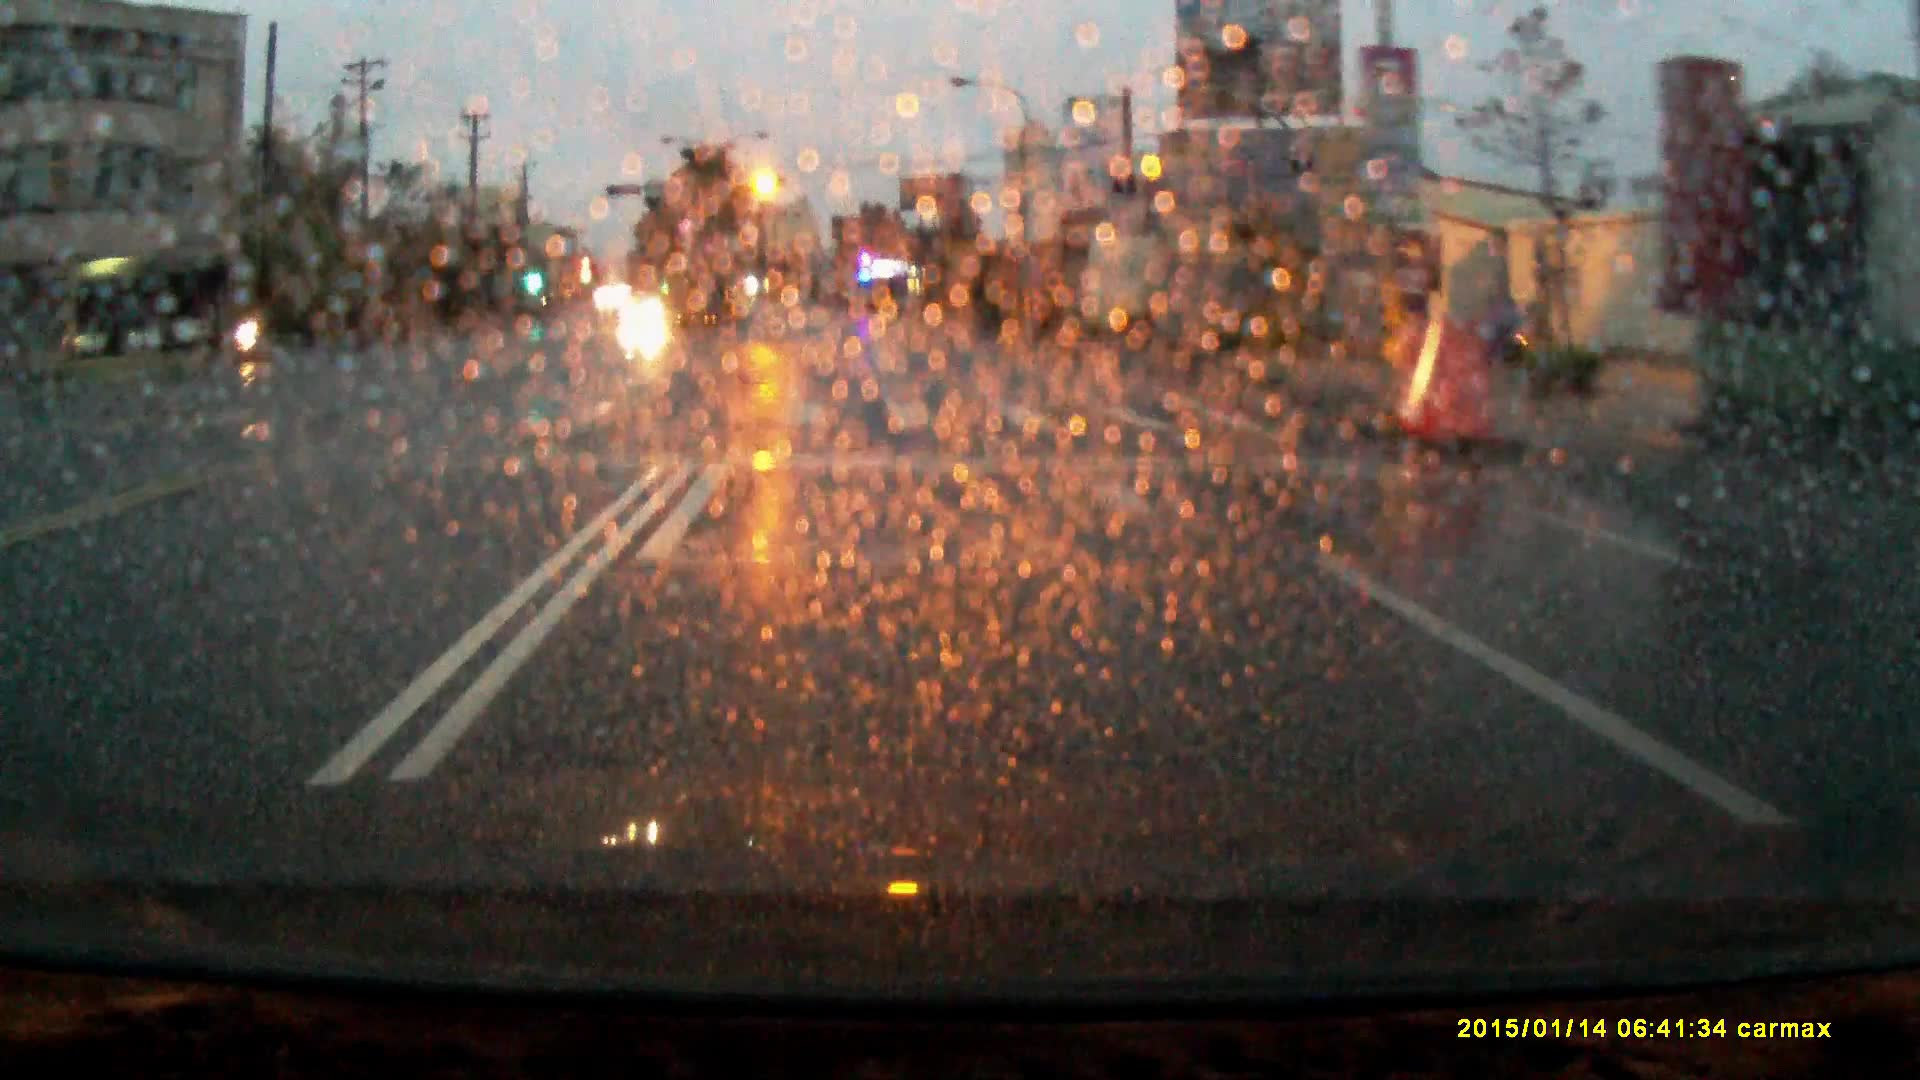rider: (230, 287, 268, 367)
vehicle: (620, 289, 666, 321)
